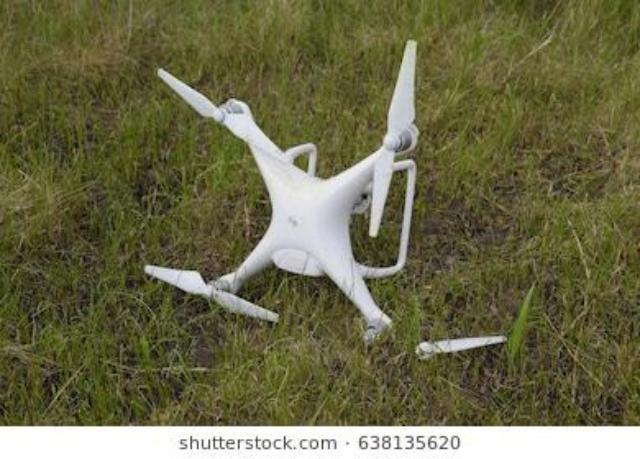drone: (0, 30, 640, 350)
